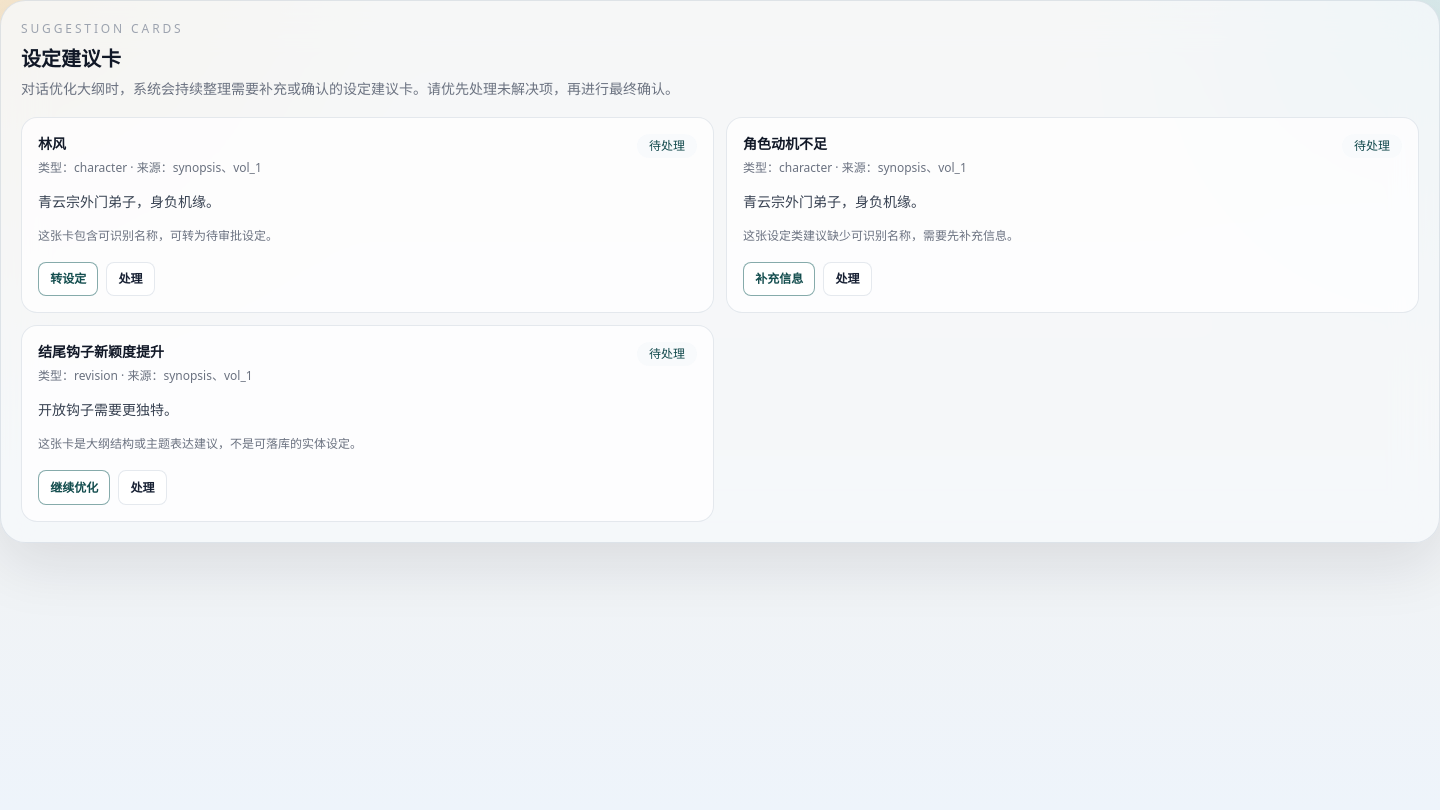
BrainstormSuggestionCards › renders smart primary actions and opens the detail drawer
This screenshot has width=1440, height=810.
Click the button with test id "suggestion-process" below "这张卡包含可识别名称，可转为待审批设定。": (131, 279) [106, 262, 155, 296]
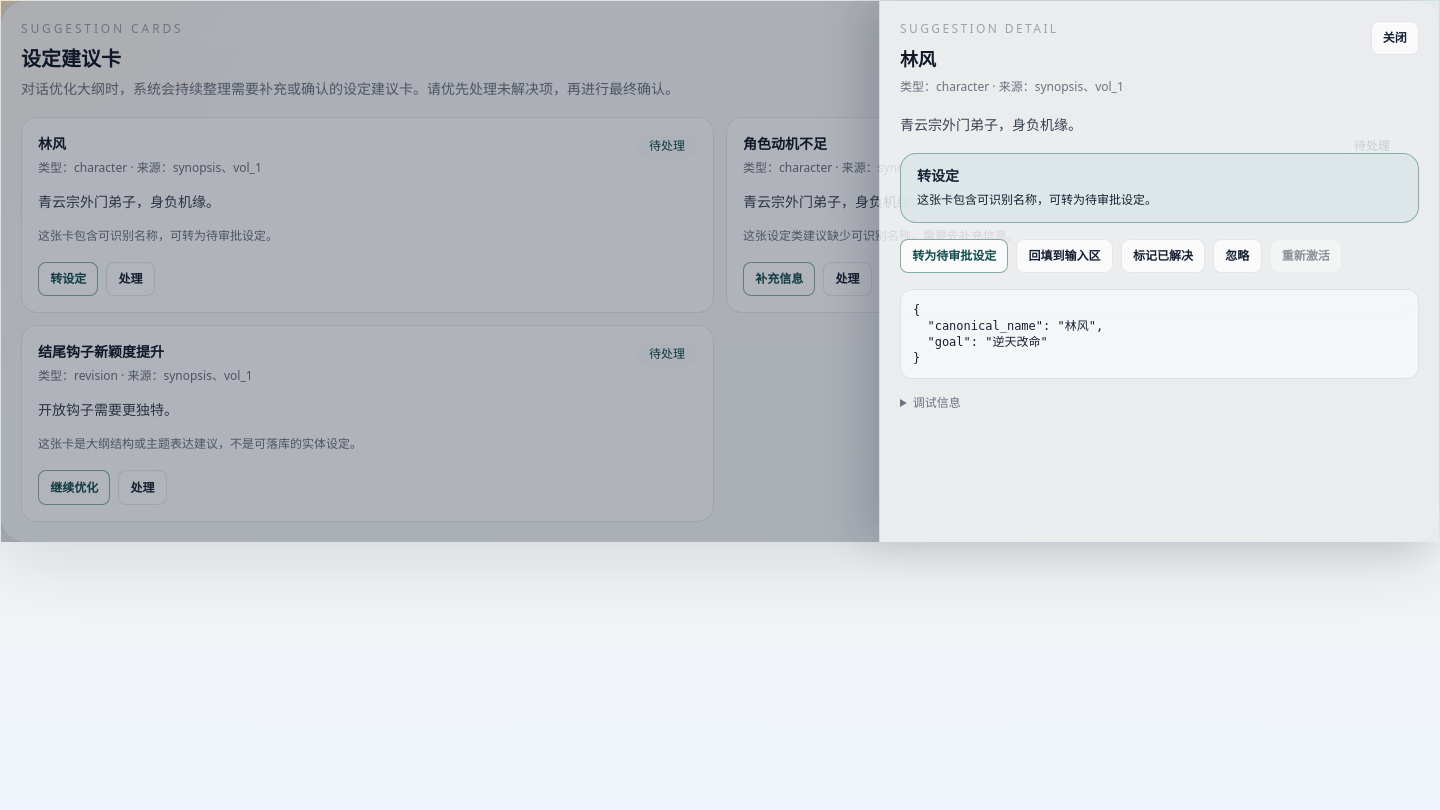
Expected: the element with test id "suggestion-detail-drawer" shows "林风", [900, 47, 936, 71]
Expected: the element with test id "suggestion-detail-drawer" shows "可转为待审批设定", [917, 191, 1157, 208]
